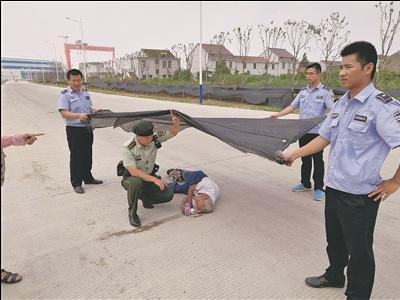Fall-Detected: (160, 162, 224, 218)
